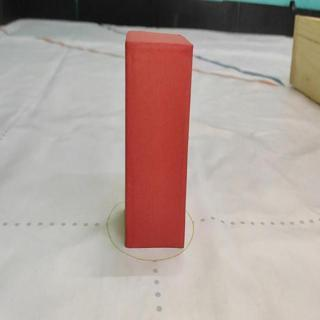redbox: (124, 30, 193, 248)
